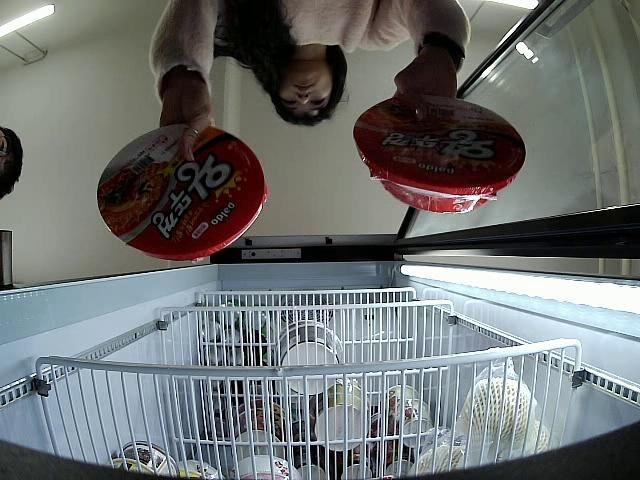10_wangTtukkeong: (98, 124, 266, 262), (352, 93, 526, 214)
